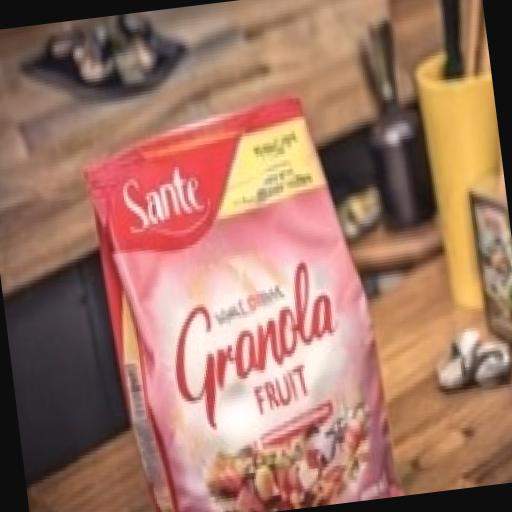granola: (53, 74, 432, 512)
